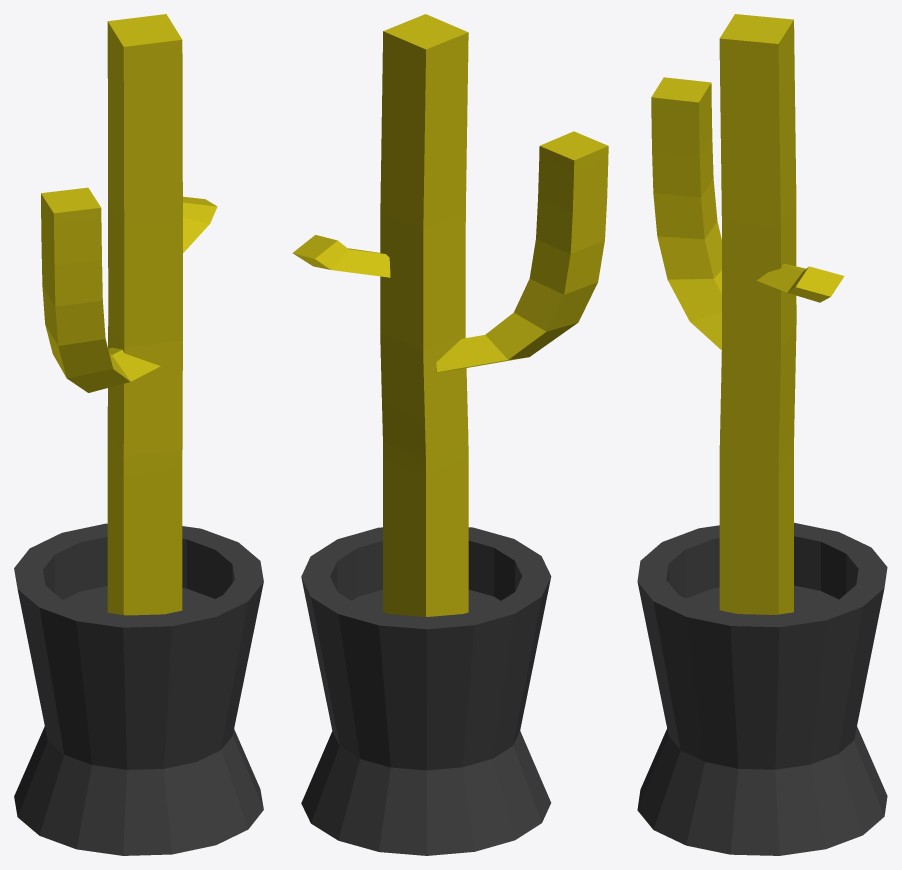
The model's file is cactus_grande_01_000013.obj.
3 views of the same model, side by side, from view 1: azimuth 30°, elevation 25°; view 2: azimuth 150°, elevation 25°; view 3: azimuth 270°, elevation 25° (orthographic).
Parts seen in each view (by area): view 1: Cylinder, NurbsPath.001, NurbsPath.002, NurbsPath.003; view 2: Cylinder, NurbsPath.001, NurbsPath.002, NurbsPath.003; view 3: Cylinder, NurbsPath.001, NurbsPath.002, NurbsPath.003.
Boxes of the visible parts, x1,y1,x2,y2 form: Cylinder: (14, 523, 263, 855); NurbsPath.001: (107, 14, 182, 615); NurbsPath.002: (41, 187, 160, 392); NurbsPath.003: (183, 196, 217, 252); Cylinder: (301, 527, 551, 855); NurbsPath.001: (380, 14, 468, 616); NurbsPath.002: (436, 131, 608, 372); NurbsPath.003: (292, 235, 390, 277); Cylinder: (637, 522, 887, 855); NurbsPath.001: (719, 14, 796, 614); NurbsPath.002: (651, 77, 721, 350); NurbsPath.003: (757, 264, 844, 302).
Size of the model in its own units: 1.44 by 4.41 by 1.29.
